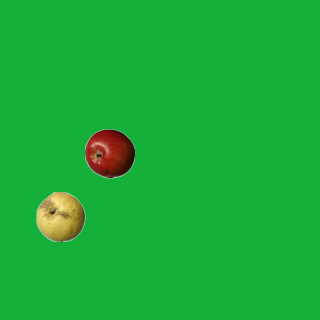Apple Braeburn: (84, 128, 134, 178)
Apple Golden 1: (35, 191, 85, 241)
